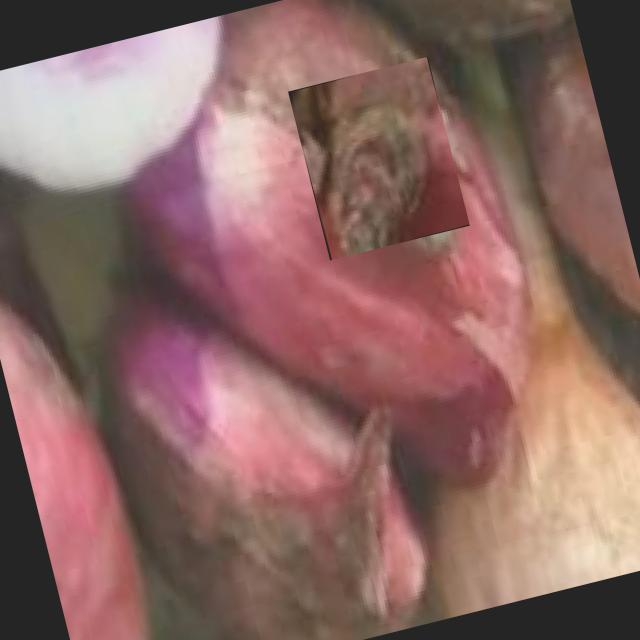rotten: (288, 56, 470, 260)
